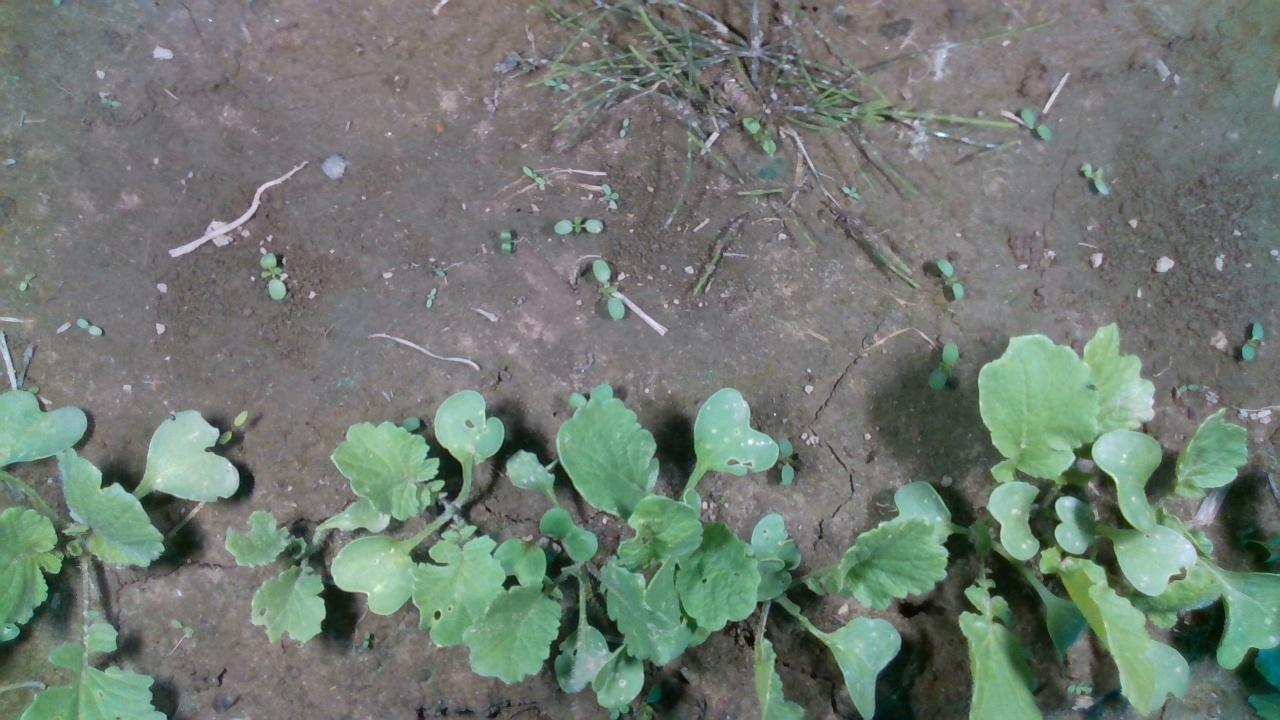weed: (591, 258, 624, 320), (926, 339, 958, 389), (257, 250, 287, 302), (934, 256, 964, 300), (1019, 106, 1052, 141), (552, 214, 603, 234), (1240, 320, 1264, 361), (778, 435, 794, 485), (519, 163, 545, 188), (73, 316, 103, 336), (598, 182, 619, 209), (496, 226, 513, 258), (17, 269, 35, 292), (422, 286, 435, 309), (618, 114, 629, 137), (359, 629, 370, 650)
